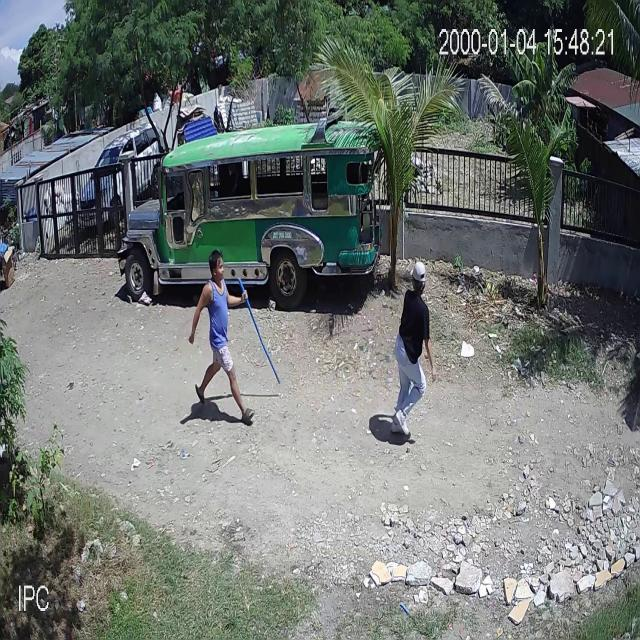running: (188, 250, 281, 416), (390, 264, 436, 433)
